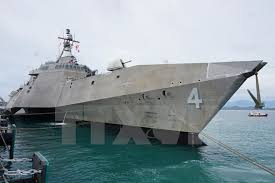tau_muctieu: (5, 32, 267, 142)
